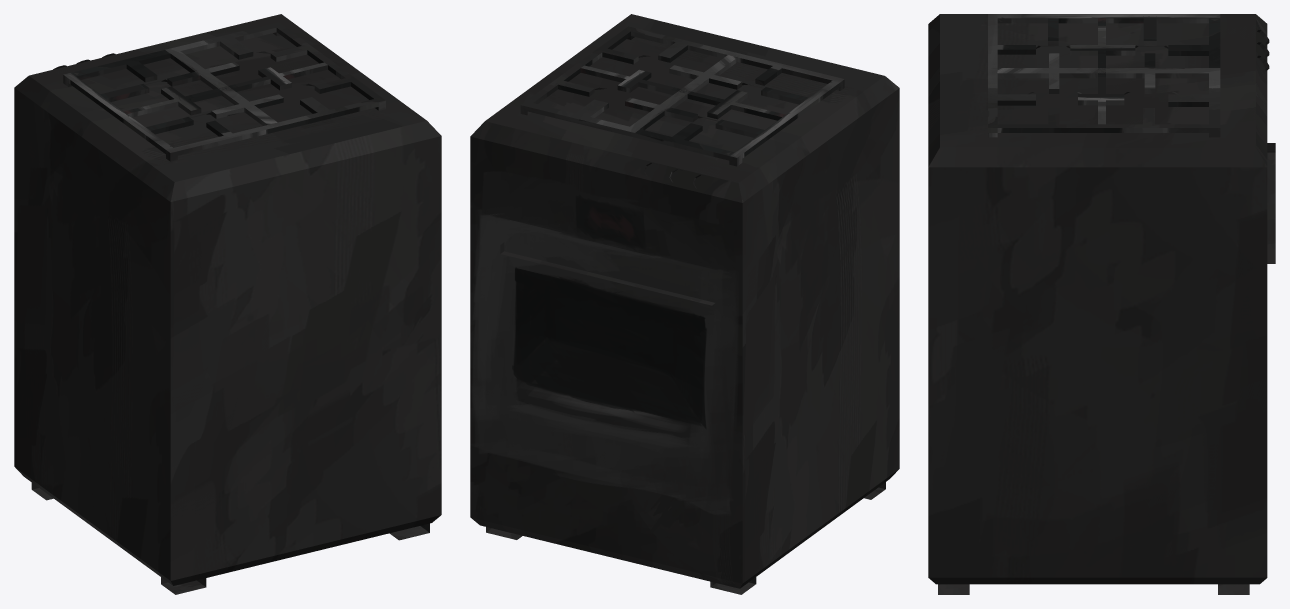
Rendered from M-Stove 1.fbx.
3 renders of one model, left to right at view 1: azimuth 30°, elevation 25°; view 2: azimuth 150°, elevation 25°; view 3: azimuth 270°, elevation 25°, orthographic. The views are drawn at different scales.
Visible parts, largest first — view 1: Cube.012, Cube.013; view 2: Cube.012, Cube.013; view 3: Cube.012, Cube.013.
Boxes of the visible parts, x1,y1,x2,y2 form: Cube.012: (14, 14, 441, 585); Cube.013: (31, 22, 429, 594); Cube.012: (470, 14, 899, 588); Cube.013: (486, 26, 885, 594); Cube.012: (928, 14, 1267, 584); Cube.013: (938, 14, 1275, 594).
Bounding box in the file's own units: 60 × 61.44 × 89.01.
2 materials, 2 textured.
